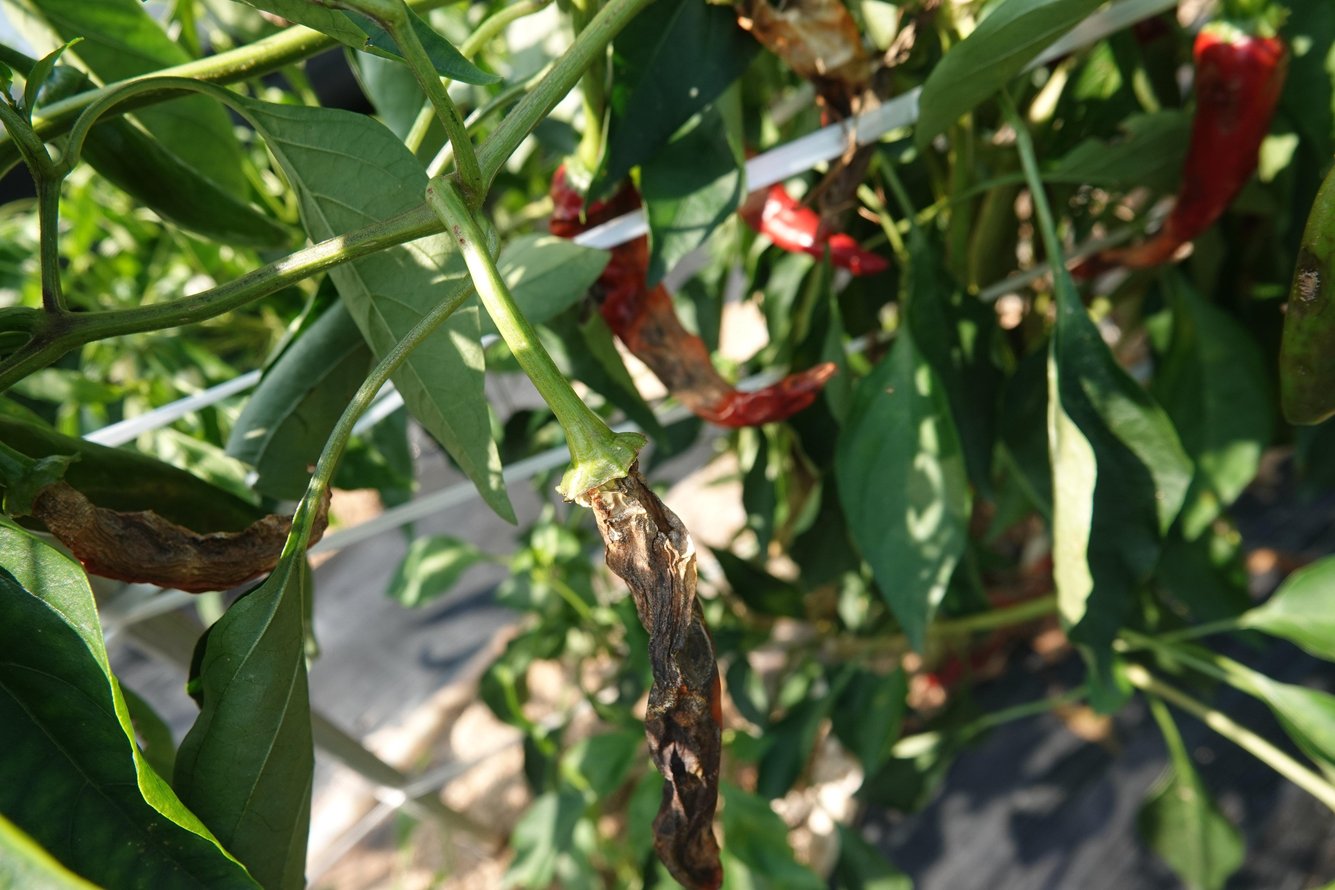Busuk Buah Antraknosa: (549, 147, 843, 430), (561, 447, 738, 890), (1065, 20, 1290, 284), (736, 180, 890, 279)
